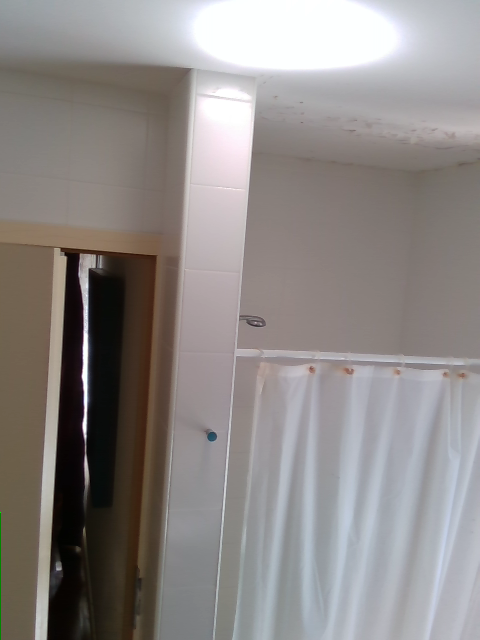semi: (3, 218, 168, 639)
